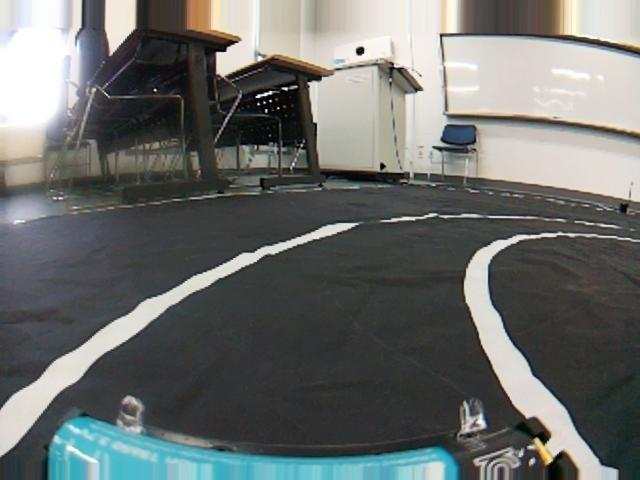right: (1, 209, 640, 480)
